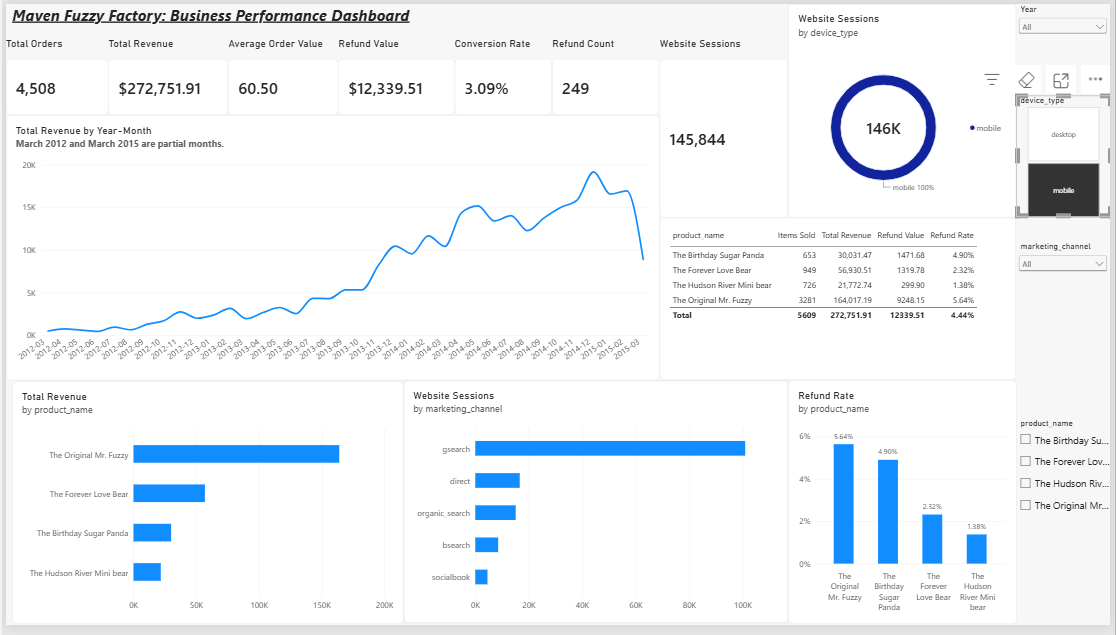

Layout of this report page (visuals, bound fields, positions):
{"tool":"powerbi","page":{"name":"Page 1","canvas":[1920,1080],"ordinal":0},"visuals":[{"type":"cardVisual","title":"Average Order Value","fields":{"Data":["Date Table.Average Order Value"]},"box":[387,100,191.4,187.9],"z":0},{"type":"cardVisual","title":"Conversion Rate","fields":{"Data":["Date Table.Conversion Rate"]},"box":[780.4,100,169,187.9],"z":1000},{"type":"lineChart","fields":{"Category":["Date Table.Year-Month"],"Y":["Date Table.Total Revenue"]},"box":[0,287,1360.3,367.2],"z":2000},{"type":"clusteredBarChart","fields":{"Category":["products.product_name"],"Y":["Date Table.Total Revenue"]},"box":[10.9,656.5,680.4,421.7],"z":3000},{"type":"clusteredBarChart","fields":{"Category":["website_sessions.marketing_channel"],"Y":["Date Table.Website Sessions"]},"box":[691.3,654.3,669.6,423.9],"z":4000},{"type":"cardVisual","title":"Total Orders","fields":{"Data":["Date Table.Total Orders Display"]},"box":[0,100,179.3,187.9],"z":5000},{"type":"cardVisual","title":"Total Revenue","fields":{"Data":["Date Table.Total Revenue Display"]},"box":[178.3,100,208.6,187.9],"z":6000},{"type":"cardVisual","title":"Refund Value","fields":{"Data":["Date Table.Refund Value Display"]},"box":[578.3,100,201.7,187.9],"z":7000},{"type":"cardVisual","title":"Refund Count","fields":{"Data":["Date Table.Refund Count Display"]},"box":[950,100,187.9,187.9],"z":8000},{"type":"cardVisual","title":"Website Sessions","fields":{"Data":["website_sessions.Website Sessions Display"]},"box":[1137,100,223.9,187],"z":9000},{"type":"donutChart","fields":{"Category":["website_sessions.device_type"],"Y":["Date Table.Website Sessions"]},"box":[1360.3,0,396.6,367.2],"z":10000},{"type":"tableEx","fields":{"Values":["products.product_name","Date Table.Items Sold","Date Table.Total Revenue","Date Table.Refund Value","Date Table.Refund Rate"]},"box":[1360.3,369,396.6,286.2],"z":10001},{"type":"clusteredColumnChart","fields":{"Category":["products.product_name"],"Y":["Date Table.Refund Rate"]},"box":[1360.3,655.2,396.6,424.1],"z":10002},{"type":"slicer","fields":{"Values":["Date Table.Year"]},"box":[1756.9,0,163.8,158.6],"z":10003},{"type":"slicer","fields":{"Values":["website_sessions.device_type"]},"box":[1756.9,158.6,163.8,213.8],"z":10004},{"type":"slicer","fields":{"Values":["website_sessions.marketing_channel"]},"box":[1756.9,412.1,163,286],"z":10005},{"type":"slicer","fields":{"Values":["products.product_name"]},"box":[1756.9,719,163.8,360.3],"z":10006},{"type":"textbox","box":[10.9,0,1350,78.3],"z":10007}]}

Visuals, with their boxes on the page's 1920x1080 design canvas (x1, y1, x2, y2). These are canvas units, not pixel positions in the 1117x635 screenshot, which may show the page scaled, cropped or inside an application window:
"Average Order Value" cardVisual: select_region(387, 100, 578, 288)
"Conversion Rate" cardVisual: select_region(780, 100, 949, 288)
lineChart - Date Table.Year-Month x Date Table.Total Revenue: select_region(0, 287, 1360, 654)
clusteredBarChart - products.product_name x Date Table.Total Revenue: select_region(11, 656, 691, 1078)
clusteredBarChart - website_sessions.marketing_channel x Date Table.Website Sessions: select_region(691, 654, 1361, 1078)
"Total Orders" cardVisual: select_region(0, 100, 179, 288)
"Total Revenue" cardVisual: select_region(178, 100, 387, 288)
"Refund Value" cardVisual: select_region(578, 100, 780, 288)
"Refund Count" cardVisual: select_region(950, 100, 1138, 288)
"Website Sessions" cardVisual: select_region(1137, 100, 1361, 287)
donutChart - website_sessions.device_type x Date Table.Website Sessions: select_region(1360, 0, 1757, 367)
tableEx - products.product_name x Date Table.Items Sold: select_region(1360, 369, 1757, 655)
clusteredColumnChart - products.product_name x Date Table.Refund Rate: select_region(1360, 655, 1757, 1079)
slicer - Date Table.Year: select_region(1757, 0, 1921, 159)
slicer - website_sessions.device_type: select_region(1757, 159, 1921, 372)
slicer - website_sessions.marketing_channel: select_region(1757, 412, 1920, 698)
slicer - products.product_name: select_region(1757, 719, 1921, 1079)
textbox: select_region(11, 0, 1361, 78)
